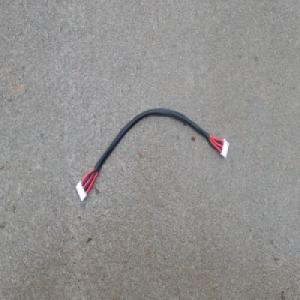Wire: (74, 106, 230, 203)
